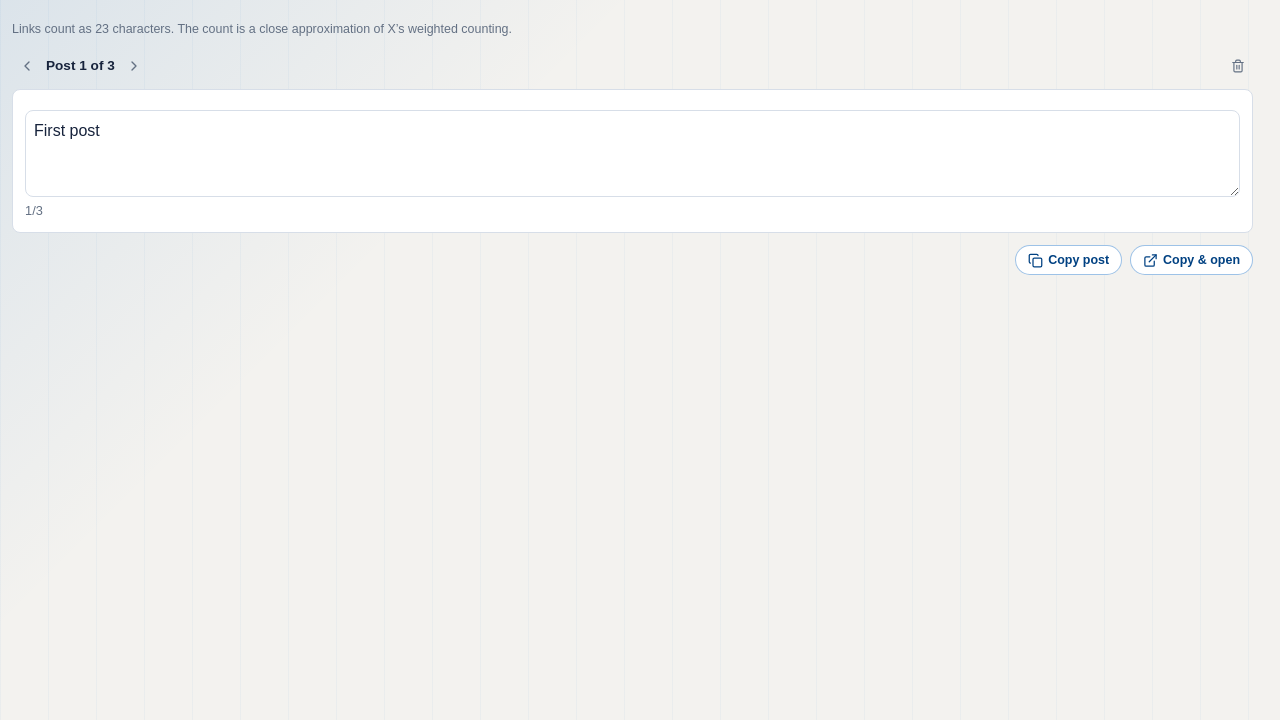
thread editor › selects and focuses the next card after removing the first or middle card
Step 1. Click the button named "Next X thread post" → {"x": 134, "y": 66}, box [119, 51, 149, 81]
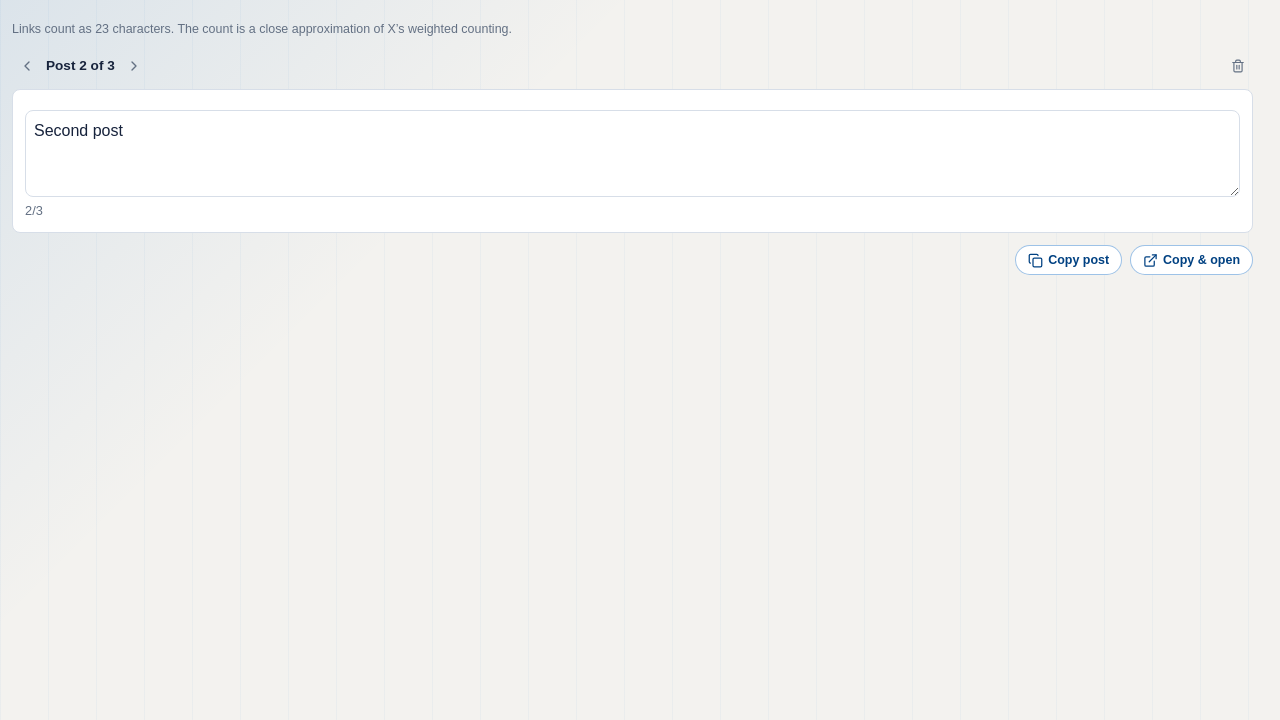
Step 2. Click the button named "Remove post 2" → {"x": 1238, "y": 66}, box [1223, 51, 1253, 81]
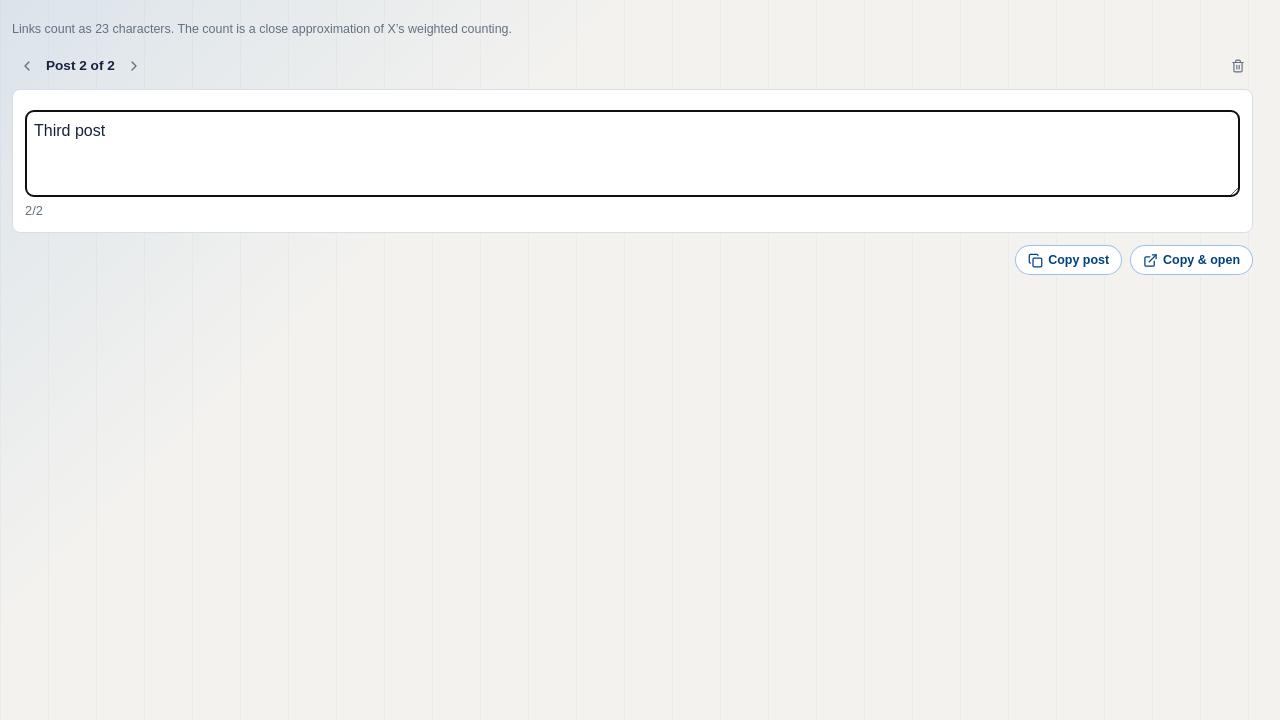
Expected: the text box holds "Third post", [25, 110, 1240, 197]
Step 3. Click the button named "Next X thread post" → {"x": 134, "y": 66}, box [119, 51, 149, 81]
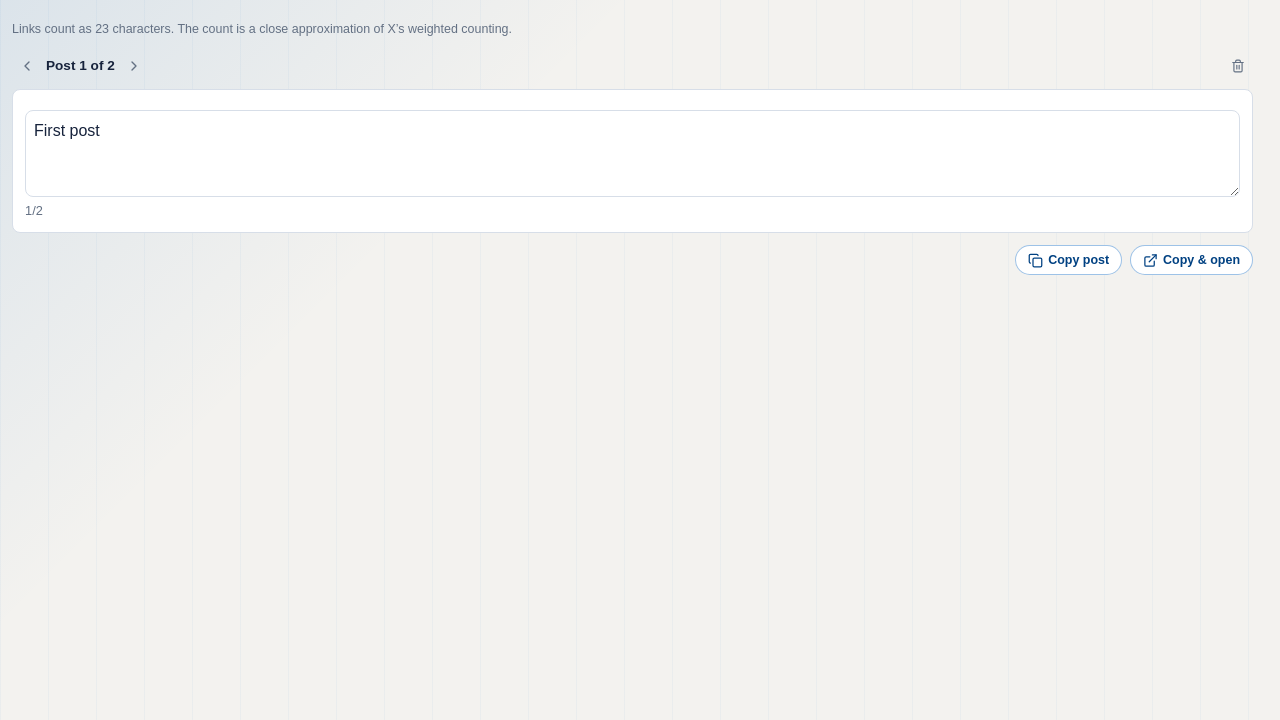
Step 4. Click the button named "Remove post 1" → {"x": 1238, "y": 66}, box [1223, 51, 1253, 81]
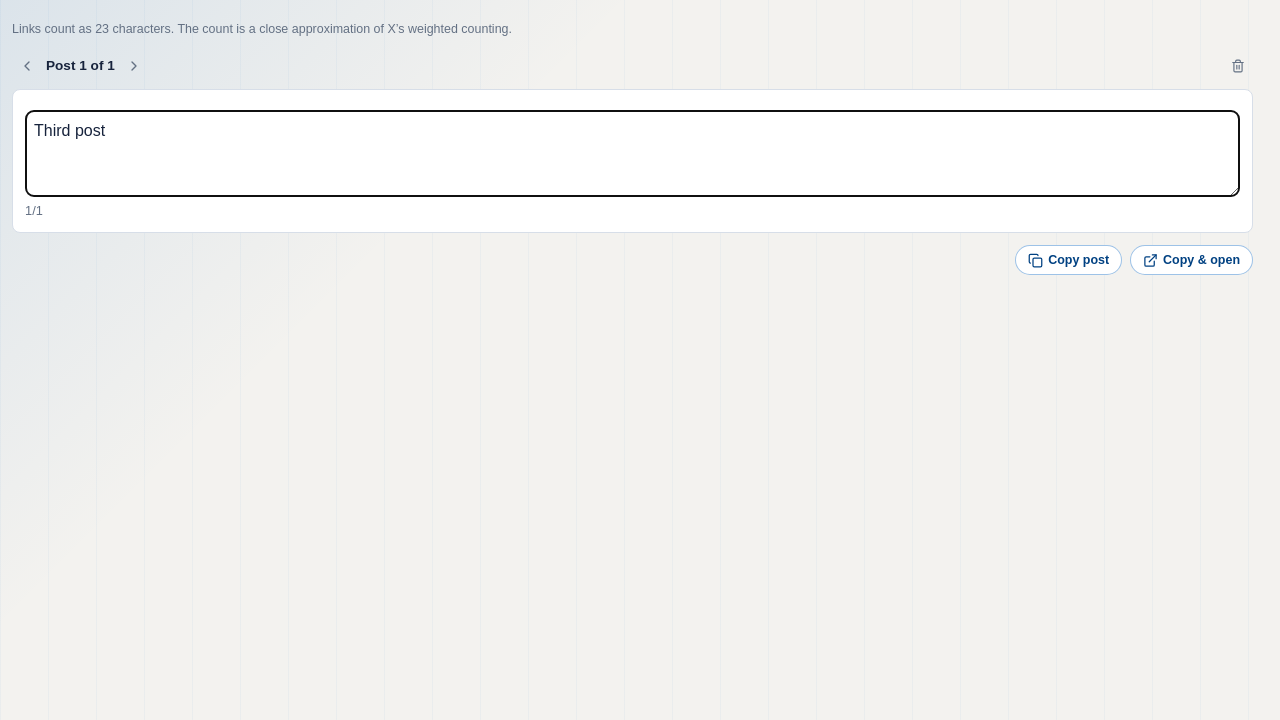
Expected: the text box holds "Third post", [25, 110, 1240, 197]
Expected: the text "Post 1 of 1" is shown, [46, 56, 115, 76]
